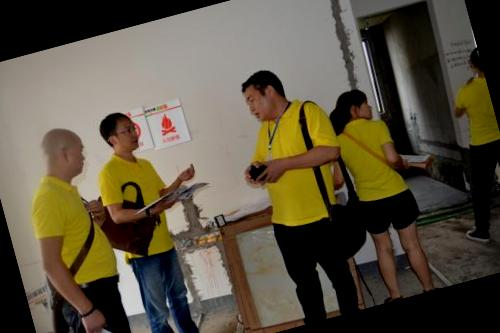no_helmet: (32, 116, 99, 188), (234, 61, 296, 130), (90, 104, 146, 164), (330, 82, 378, 134)
